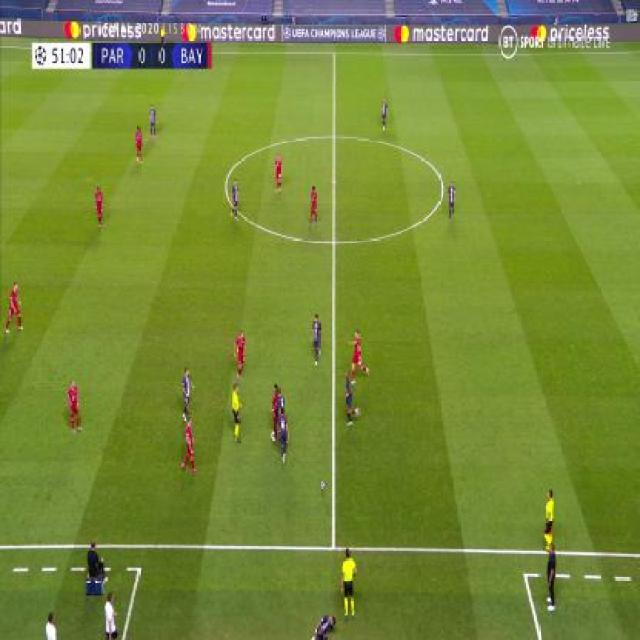ball: (320, 479, 326, 492)
player: (339, 548, 358, 621), (85, 538, 107, 597), (348, 330, 370, 383), (4, 281, 24, 334), (343, 369, 360, 428), (544, 540, 558, 611), (541, 488, 557, 550), (181, 413, 197, 473), (230, 382, 243, 444), (103, 593, 120, 639), (68, 379, 82, 433), (181, 367, 195, 420), (311, 612, 337, 640), (273, 386, 286, 442), (311, 312, 324, 366), (234, 329, 247, 380), (278, 405, 289, 464), (271, 384, 280, 441), (229, 175, 240, 220), (94, 184, 105, 229), (446, 179, 457, 221), (308, 185, 319, 227), (45, 610, 59, 639), (274, 152, 283, 194), (134, 124, 143, 164), (148, 103, 157, 140), (380, 95, 388, 131)
